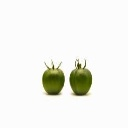tomato: (68, 69, 93, 94), (42, 68, 65, 94)
